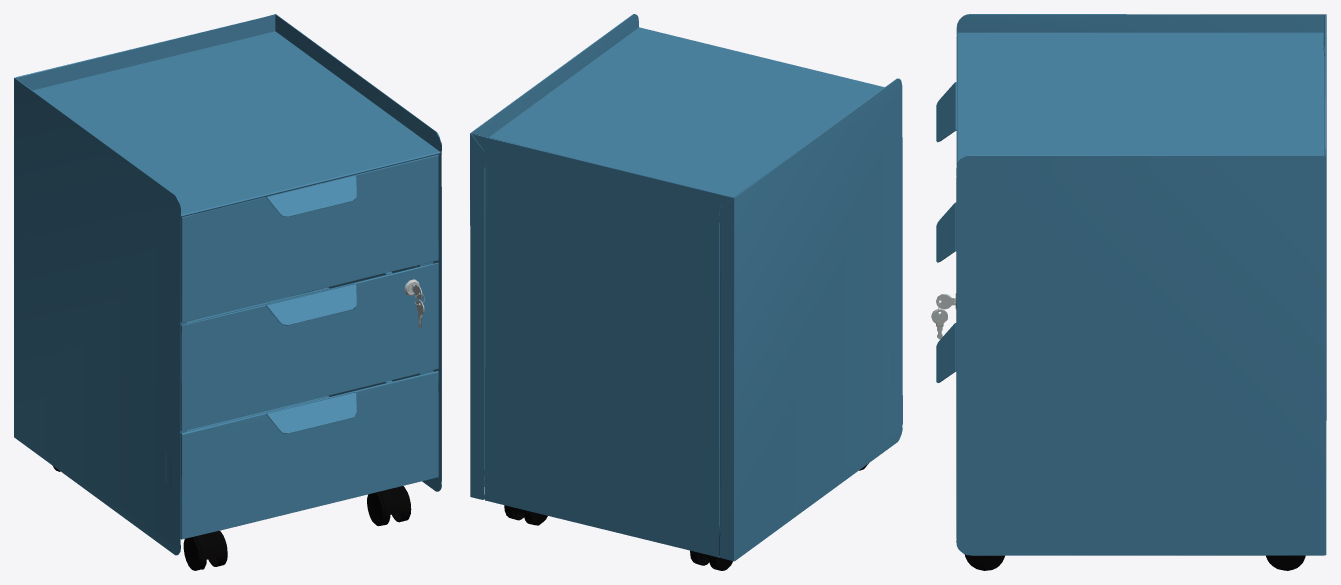
The model's file is trotten_komoda_na_kokach_3_szuflady_10619671.glb.
3 renders of one model, left to right at view 1: azimuth 30°, elevation 25°; view 2: azimuth 150°, elevation 25°; view 3: azimuth 270°, elevation 25°, orthographic. The views are drawn at different scales.
Parts seen in each view (by area): view 1: trotten_komoda_na_kokach_3_szuflady_10619671; view 2: trotten_komoda_na_kokach_3_szuflady_10619671; view 3: trotten_komoda_na_kokach_3_szuflady_10619671.
Part boxes in pixels (box(x1,y1,x2,y2)): trotten_komoda_na_kokach_3_szuflady_10619671: box(14, 14, 441, 570); trotten_komoda_na_kokach_3_szuflady_10619671: box(470, 14, 902, 570); trotten_komoda_na_kokach_3_szuflady_10619671: box(931, 14, 1326, 570).
Bounding box in the file's own units: 0.3993 × 0.564 × 0.47.
Materials: 1 (1 with a texture image).
